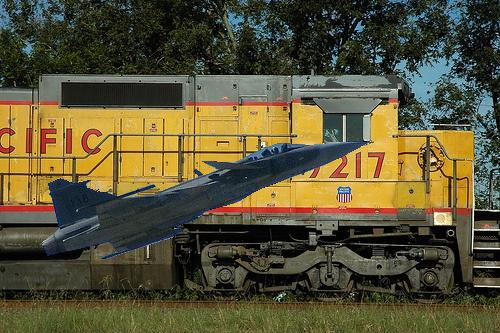tampered: (42, 141, 373, 259)
